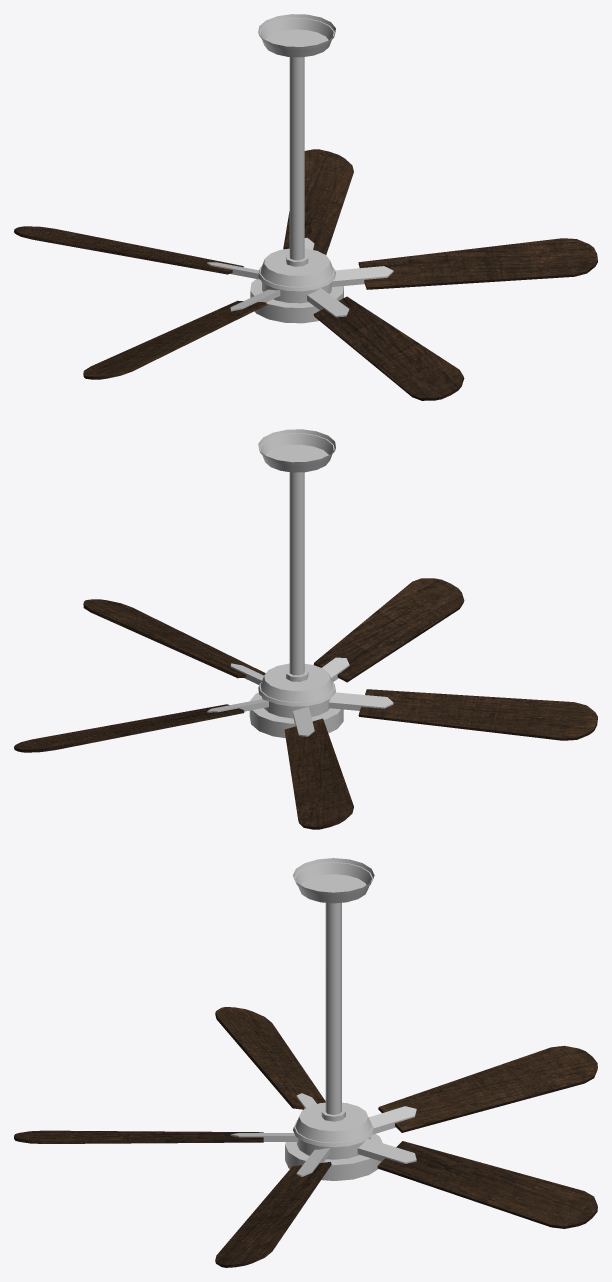
File: ceiling_fan_mp_2.obj
The picture shows the model from 3 angles, top to bottom: view 1: azimuth 30°, elevation 25°; view 2: azimuth 150°, elevation 25°; view 3: azimuth 270°, elevation 25°; orthographic projection. The views are drawn at different scales.
Visible parts, largest first — view 1: ceiling_fan_mp_2_blades, ceiling_fan_mp_2; view 2: ceiling_fan_mp_2_blades, ceiling_fan_mp_2; view 3: ceiling_fan_mp_2_blades, ceiling_fan_mp_2.
Boxes of the visible parts, x1,y1,x2,y2 form: ceiling_fan_mp_2_blades: (14, 149, 597, 400); ceiling_fan_mp_2: (250, 14, 343, 323); ceiling_fan_mp_2_blades: (14, 578, 597, 829); ceiling_fan_mp_2: (249, 429, 343, 737); ceiling_fan_mp_2_blades: (14, 1007, 597, 1267); ceiling_fan_mp_2: (285, 858, 382, 1180).
Bounding box in the file's own units: 1.11 × 0.5915 × 1.06.
